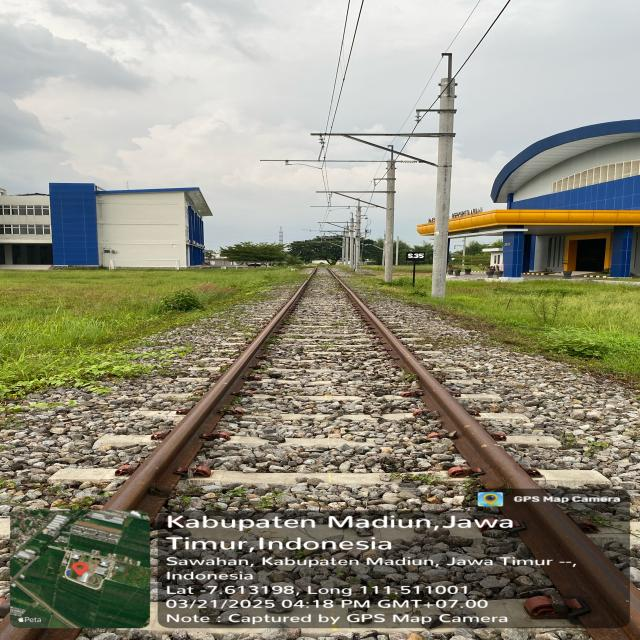rail-detection: (327, 267, 637, 640), (102, 267, 317, 518)
